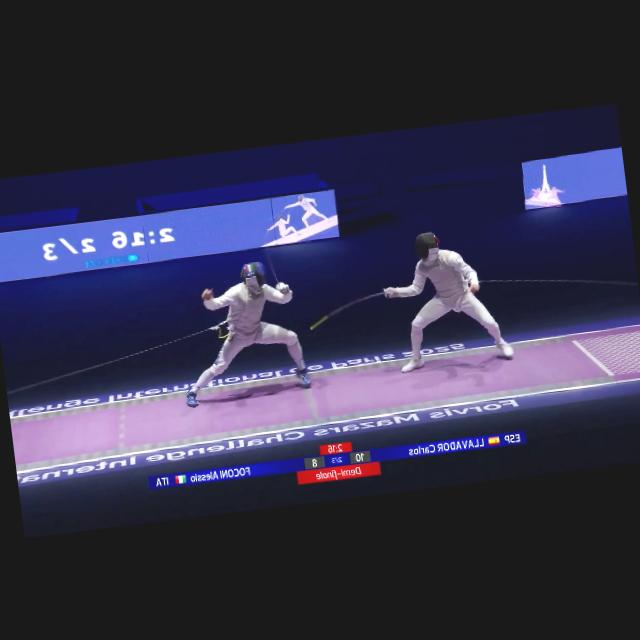blade: (296, 283, 401, 332), (258, 237, 288, 296)
